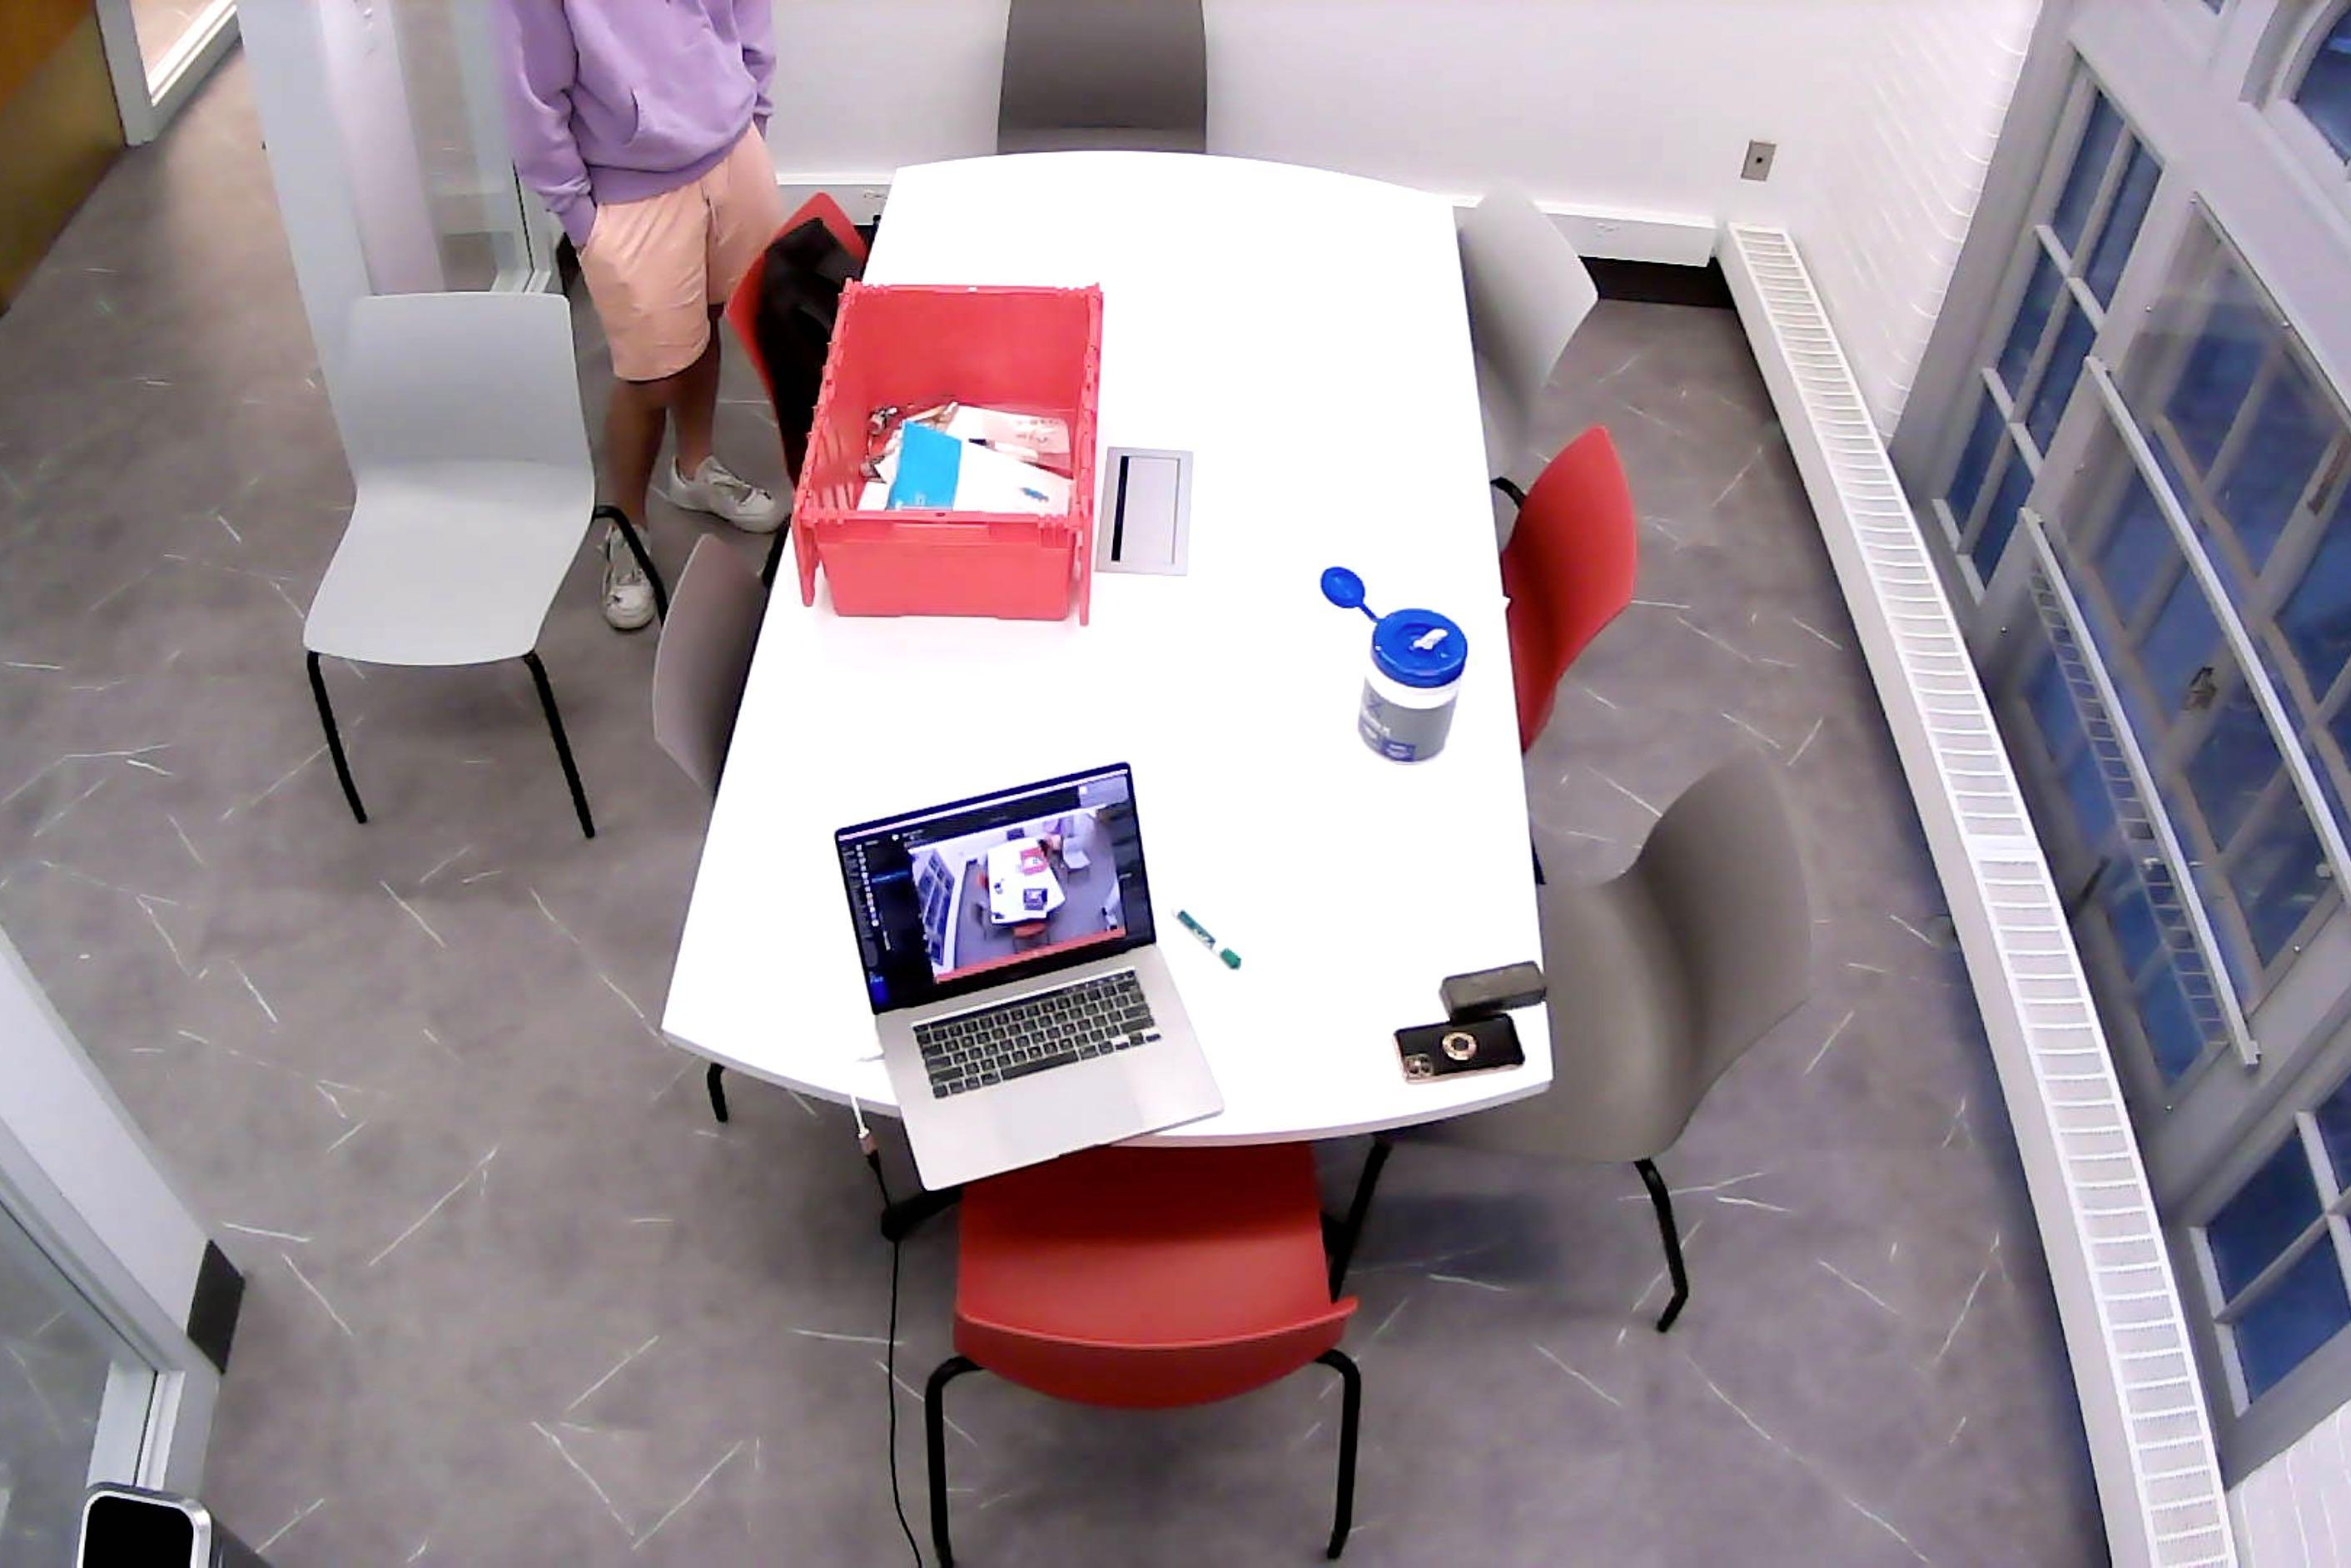Backpack: (760, 221, 862, 476)
Chair: (1341, 751, 1842, 1337), (297, 280, 662, 847), (925, 1145, 1372, 1568), (1496, 423, 1638, 876), (1459, 170, 1597, 504), (998, 0, 1210, 155)
Dining Table: (662, 143, 1555, 1147)
Person: (487, 0, 781, 621)
